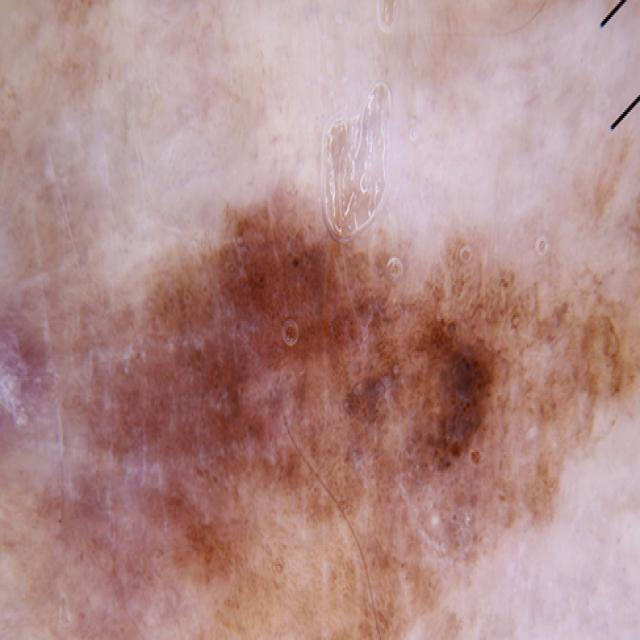Keratosis: (136, 298, 366, 544), (389, 331, 614, 533), (0, 233, 68, 427)
